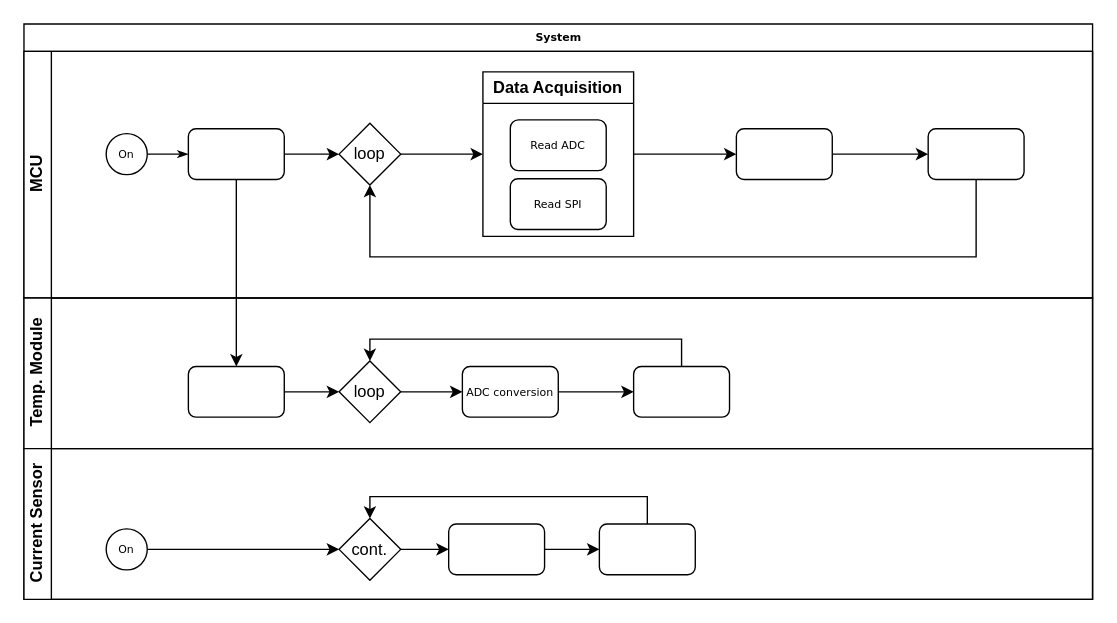
This 1117x623 diagram has some shape labels left out. Here are the shapes that lost their labels. From the top down, the centre of each, then its label:
[235,153]: Init
[783,153]: Package data
[975,153]: Send via CAN
[235,391]: SPI config
[681,391]: transmit temp.
[496,549]: Analog signal
[646,549]: send to ADC
